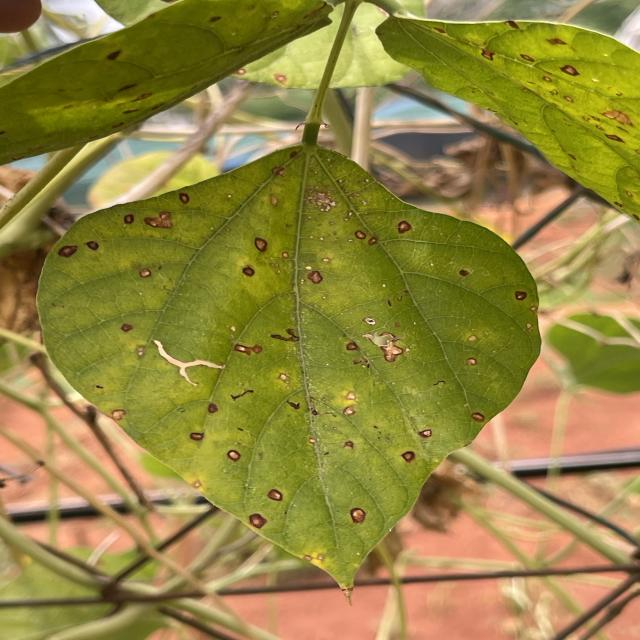Dolicos bean_cercospora leaf spot: (32, 147, 545, 596)
